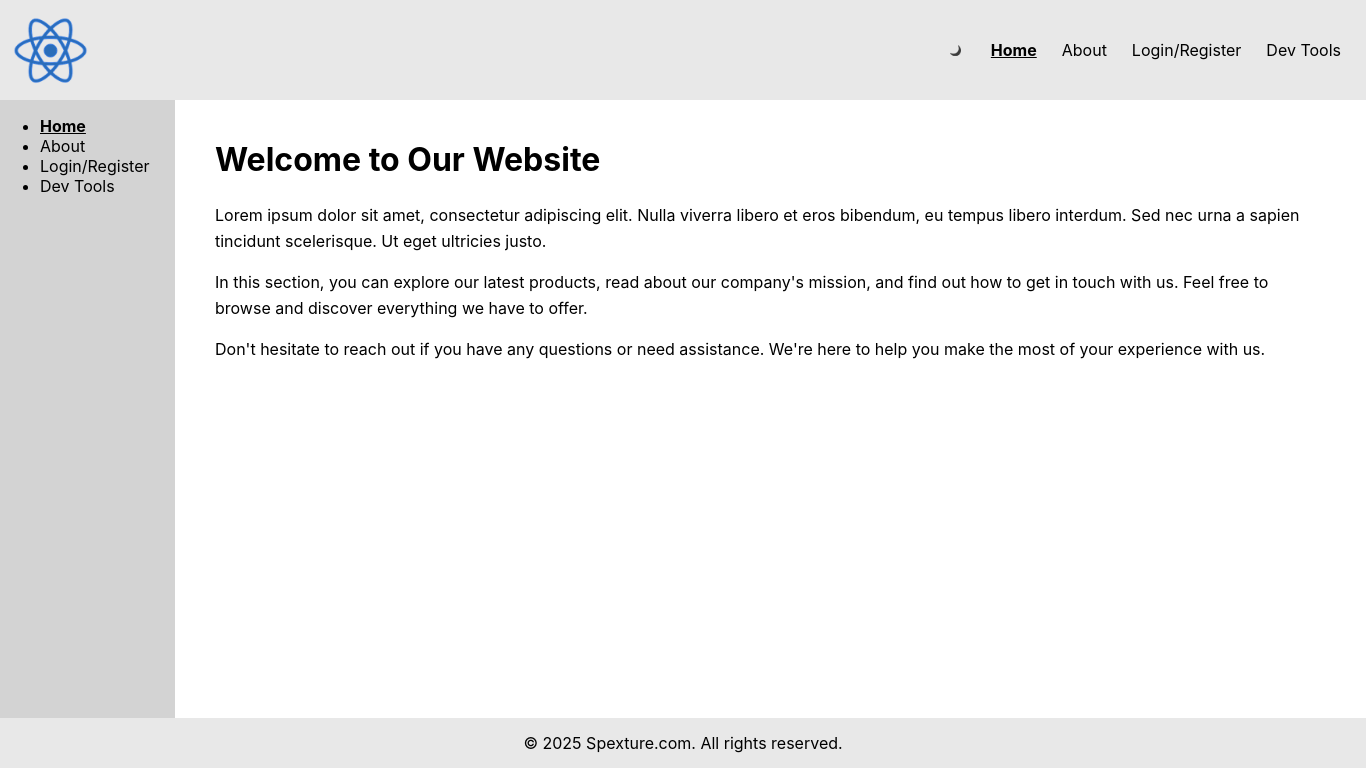
Scenario: App › navigates to About page when About link is clicked
Expected: the 1st link "Home" is shown, [991,40,1037,60]
Click the 1st link "About": (1084, 50) [1062,40,1107,60]
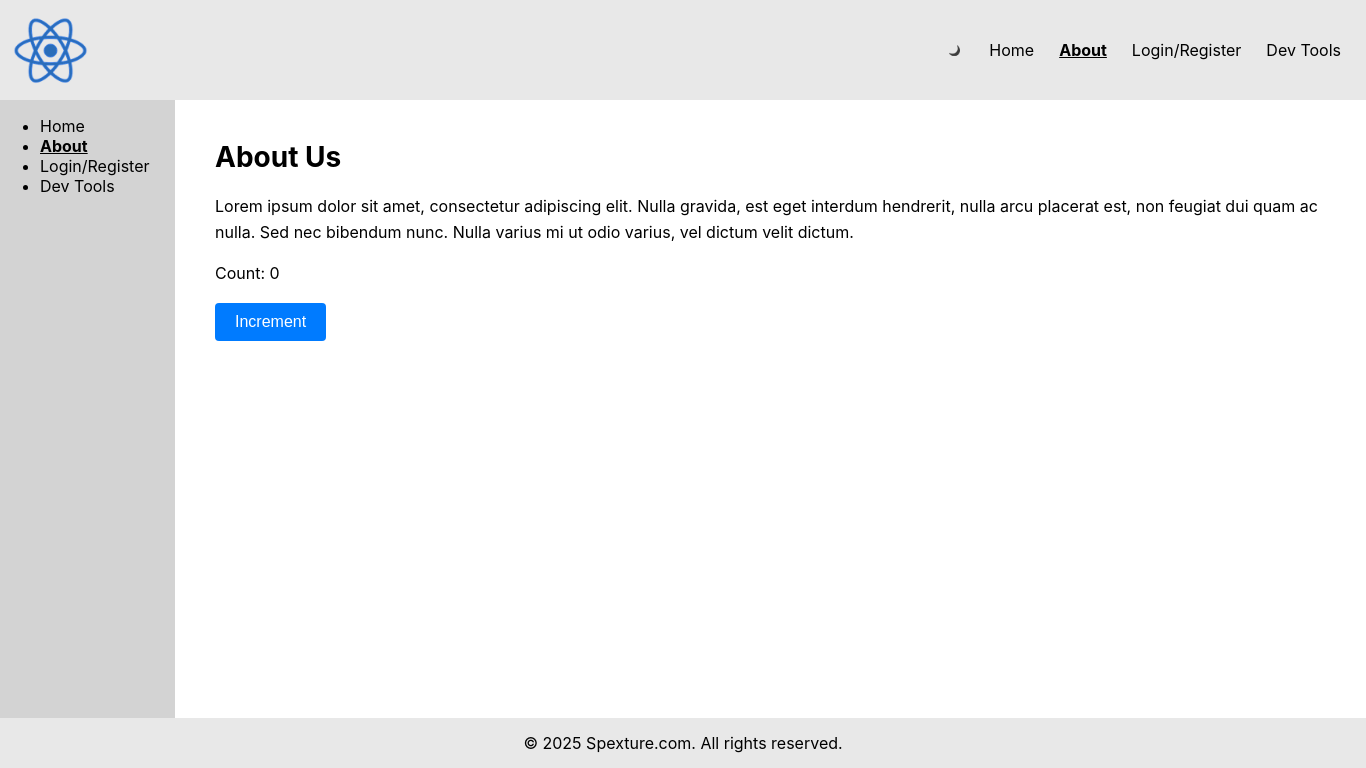
Expected: the heading "About Us" is shown, [215,140,341,174]
